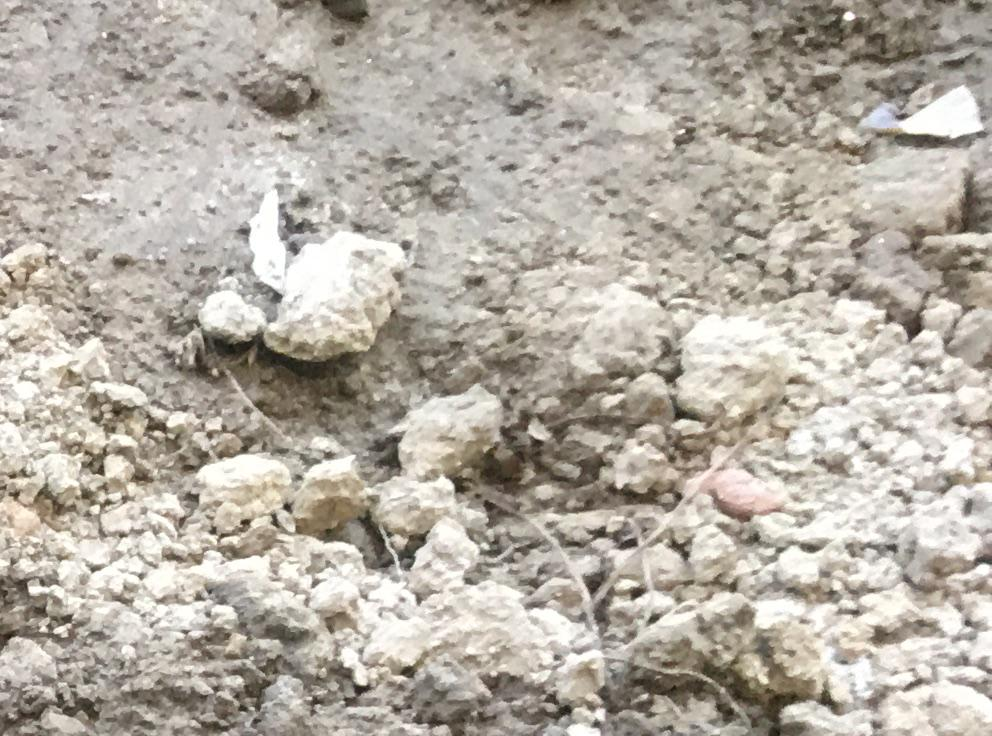block: (264, 229, 399, 366), (675, 310, 791, 436), (392, 395, 510, 479)
